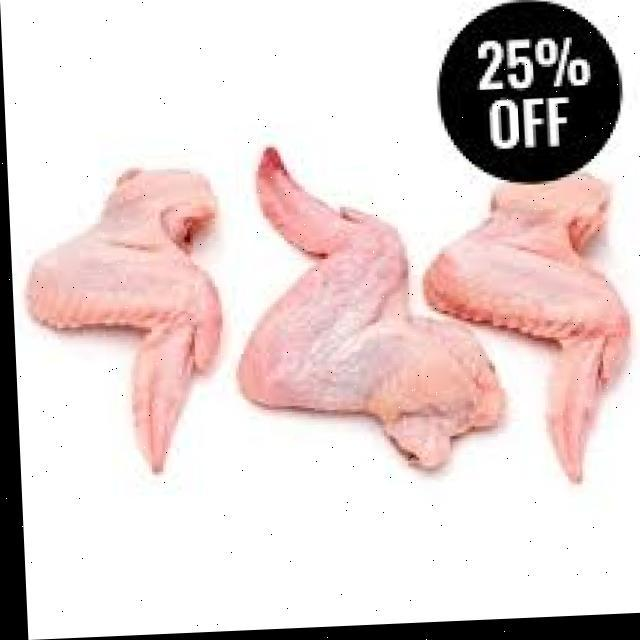wing: (226, 130, 492, 478), (14, 163, 232, 470), (431, 147, 627, 457)
